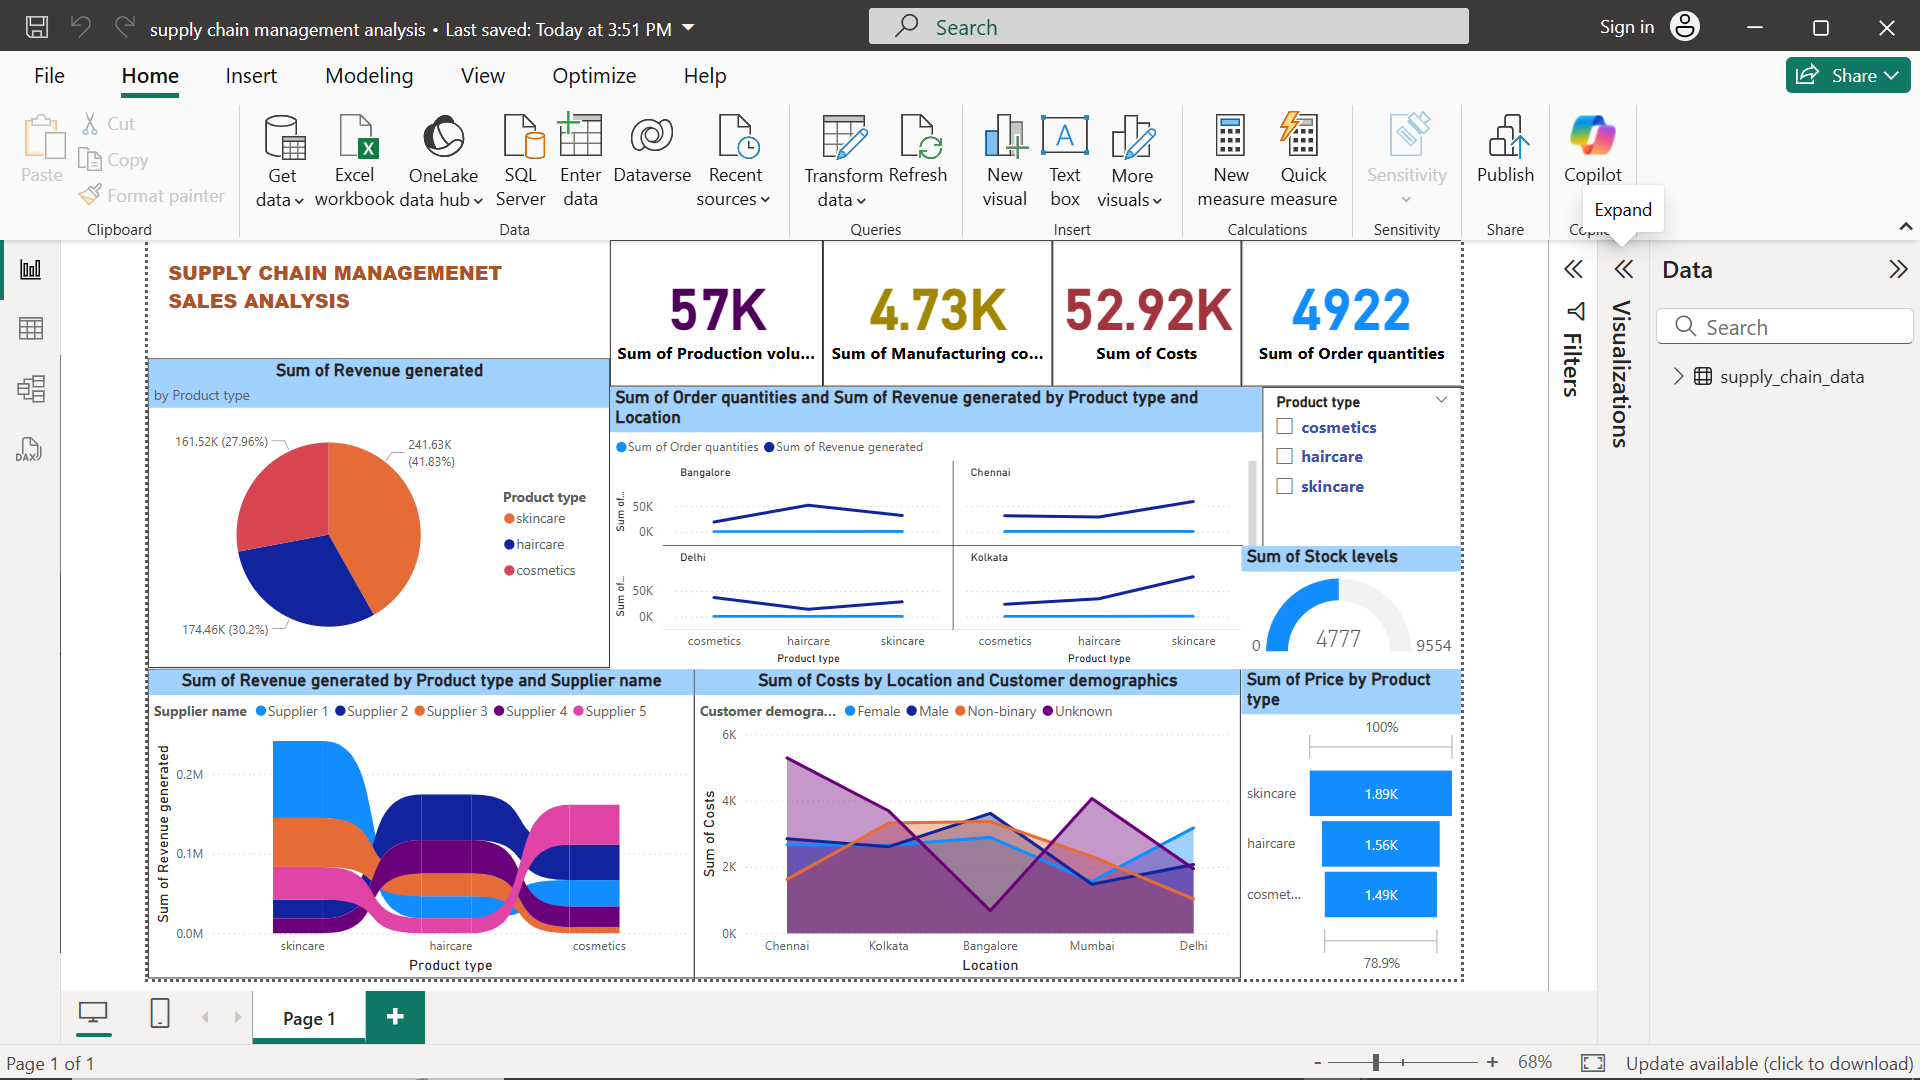

This screenshot's page, from the dashboard's own definition file:
{"tool":"powerbi","page":{"name":"Page 1","canvas":[1280,720],"ordinal":0},"visuals":[{"type":"card","fields":{"Values":["Sum(supply_chain_data.Order quantities)"]},"box":[1064.7,0,214.7,142.6],"z":0},{"type":"card","fields":{"Values":["Sum(supply_chain_data.Production volumes)"]},"box":[450,0,207.4,142.6],"z":1000},{"type":"card","fields":{"Values":["Sum(supply_chain_data.Manufacturing costs)"]},"box":[657.4,0,223.5,142.6],"z":2000},{"type":"card","fields":{"Values":["Sum(supply_chain_data.Costs)"]},"box":[880.9,0,183.8,142.6],"z":3000},{"type":"slicer","fields":{"Values":["supply_chain_data.Product type"]},"box":[1085.3,142.6,194.1,155.9],"z":4000},{"type":"ribbonChart","fields":{"Category":["supply_chain_data.Product type"],"Y":["Sum(supply_chain_data.Revenue generated)"],"Series":["supply_chain_data.Supplier name"]},"box":[0,417.6,532.4,301.5],"z":5000},{"type":"pieChart","fields":{"Y":["Sum(supply_chain_data.Revenue generated)"],"Category":["supply_chain_data.Product type"]},"box":[0,116.2,450,301.5],"z":6000},{"type":"areaChart","fields":{"Category":["supply_chain_data.Location"],"Series":["supply_chain_data.Customer demographics"],"Y":["Sum(supply_chain_data.Costs)"]},"box":[532.4,417.6,532.4,301.5],"z":7000},{"type":"textbox","box":[14.7,13.2,341.2,91.2],"z":8000},{"type":"lineChart","fields":{"Y":["Sum(supply_chain_data.Order quantities)","Sum(supply_chain_data.Revenue generated)"],"Category":["supply_chain_data.Product type"],"Rows":["supply_chain_data.Location"]},"box":[450,142.6,635.3,275],"z":9000},{"type":"funnel","fields":{"Category":["supply_chain_data.Product type"],"Y":["Sum(supply_chain_data.Price)"]},"box":[1064.7,417.6,214.7,301.5],"z":10000},{"type":"gauge","fields":{"Y":["Sum(supply_chain_data.Stock levels)"]},"box":[1064.7,298.5,214.7,119.1],"z":10001}]}

Visuals, with their boxes on the page's 1280x720 design canvas (x1, y1, x2, y2). These are canvas units, not pixel positions in the 1920x1080 screenshot, which may show the page scaled, cropped or inside an application window:
card - Sum(supply_chain_data.Order quantities): bbox=(1065, 0, 1279, 143)
card - Sum(supply_chain_data.Production volumes): bbox=(450, 0, 657, 143)
card - Sum(supply_chain_data.Manufacturing costs): bbox=(657, 0, 881, 143)
card - Sum(supply_chain_data.Costs): bbox=(881, 0, 1065, 143)
slicer - supply_chain_data.Product type: bbox=(1085, 143, 1279, 298)
ribbonChart - supply_chain_data.Product type x Sum(supply_chain_data.Revenue generated): bbox=(0, 418, 532, 719)
pieChart - Sum(supply_chain_data.Revenue generated) x supply_chain_data.Product type: bbox=(0, 116, 450, 418)
areaChart - supply_chain_data.Location x supply_chain_data.Customer demographics: bbox=(532, 418, 1065, 719)
textbox: bbox=(15, 13, 356, 104)
lineChart - Sum(supply_chain_data.Order quantities) x Sum(supply_chain_data.Revenue generated): bbox=(450, 143, 1085, 418)
funnel - supply_chain_data.Product type x Sum(supply_chain_data.Price): bbox=(1065, 418, 1279, 719)
gauge - Sum(supply_chain_data.Stock levels): bbox=(1065, 298, 1279, 418)
